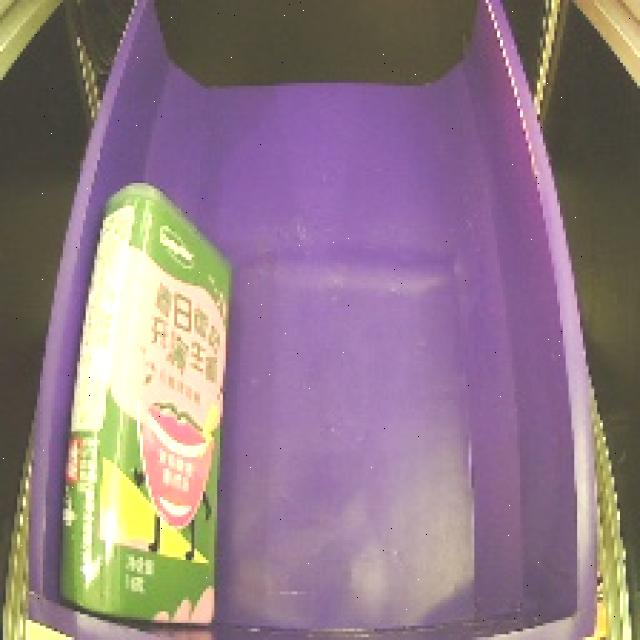metal: (41, 172, 242, 632)
